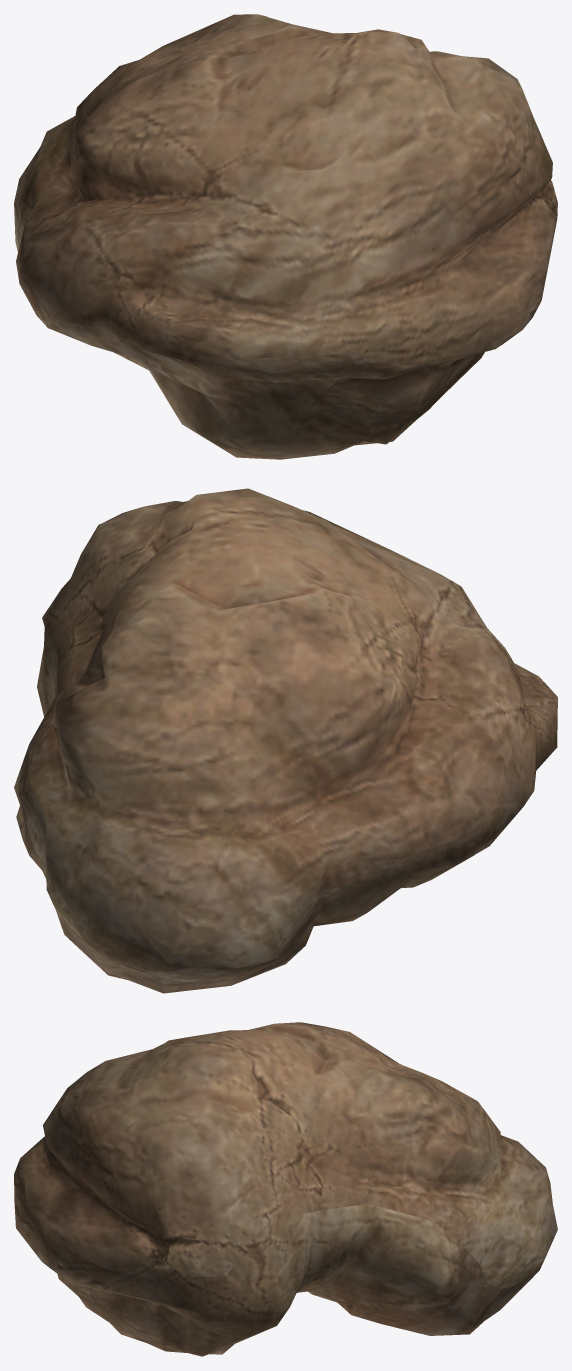
File: rock_small06.dae
The picture shows the model from 3 angles, top to bottom: view 1: azimuth 30°, elevation 25°; view 2: azimuth 150°, elevation 25°; view 3: azimuth 270°, elevation 25°; orthographic projection. The views are drawn at different scales.
Parts seen in each view (by area): view 1: Mesh04; view 2: Mesh04; view 3: Mesh04.
Part boxes in pixels (<box>): Mesh04: <box>14,14,557,459</box>; Mesh04: <box>14,488,557,993</box>; Mesh04: <box>14,1022,557,1356</box>.
Bounding box in the file's own units: 1.72 × 1.28 × 2.
